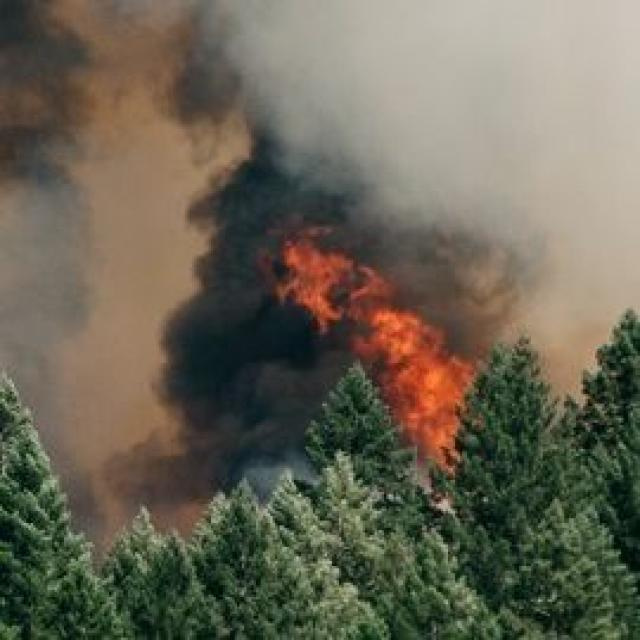Smoke: (4, 10, 408, 162), (8, 178, 138, 520)
